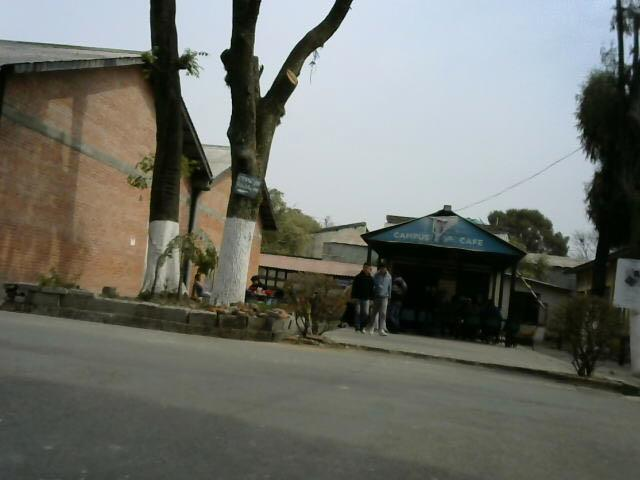Person: (354, 259, 381, 338), (374, 259, 392, 337)
Road: (0, 309, 640, 480)
Tree: (144, 1, 332, 310), (565, 71, 640, 258), (561, 298, 632, 383)
